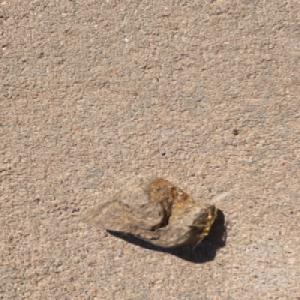Rock: (77, 173, 219, 249)
